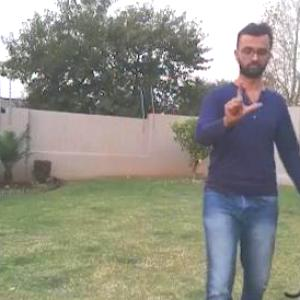land_hand: (217, 73, 265, 126)
